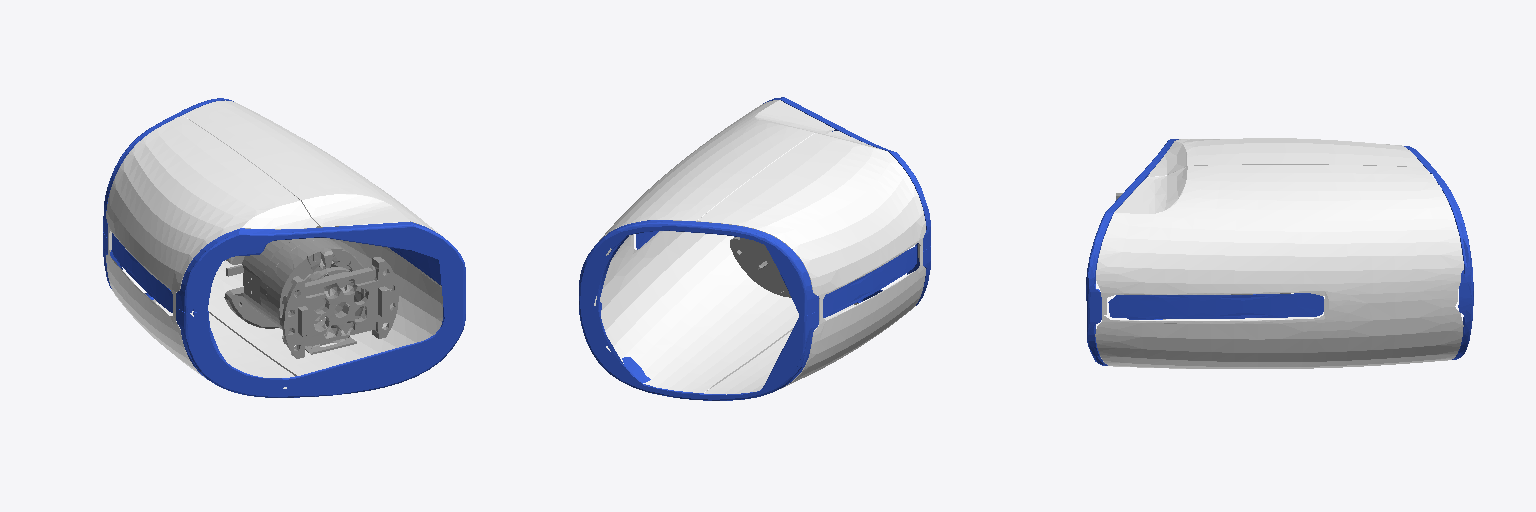
The model's file is sim_ecub_1-1_r_hip_3.obj.
3 views of the same model, side by side, from view 1: azimuth 30°, elevation 25°; view 2: azimuth 150°, elevation 25°; view 3: azimuth 270°, elevation 25° (orthographic).
Size of the model in its own units: 187 by 138 by 266.